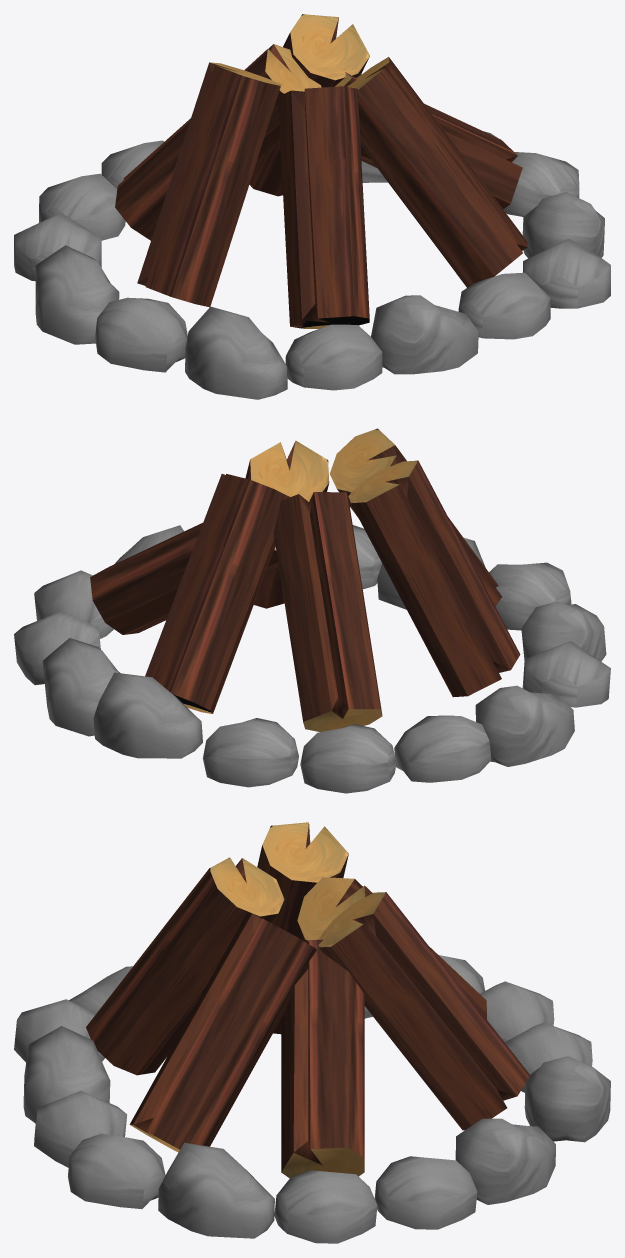
File: Bonfire.fbx
The picture shows the model from 3 angles, top to bottom: view 1: azimuth 30°, elevation 25°; view 2: azimuth 150°, elevation 25°; view 3: azimuth 270°, elevation 25°; orthographic projection. The views are drawn at different scales.
Parts seen in each view (by area): view 1: pCylinder8; view 2: pCylinder8; view 3: pCylinder8.
Part boxes in pixels (bbox=[...]): pCylinder8: bbox=[14, 14, 610, 399]; pCylinder8: bbox=[14, 428, 610, 793]; pCylinder8: bbox=[14, 822, 610, 1243].
Bounding box in the file's own units: 14.68 × 6.25 × 13.64.
